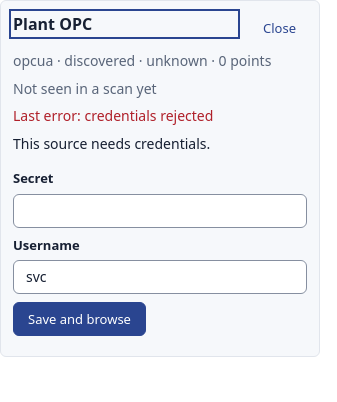
Scenario: SourcePanel › a source that needs credentials takes a secret and username, saves them, browses and shows the result
The width and height of the screenshot is (337, 402).
Expected: the text "This source needs credentials." is shown, [13,134,210,153]
Expected: the field labelled "Username" holds "svc", [13,260,307,294]
In the password field labelled "Secret": (160, 211) [13,194,307,228], type "s3cret"
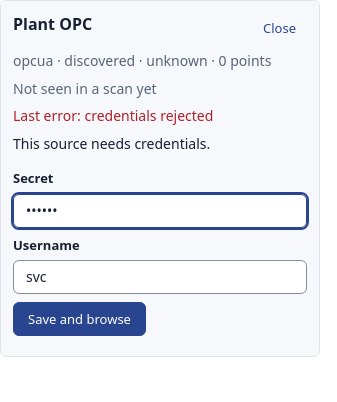
Replace the text in the field labelled "Username" with "operator": (160, 277) [13,260,307,294]
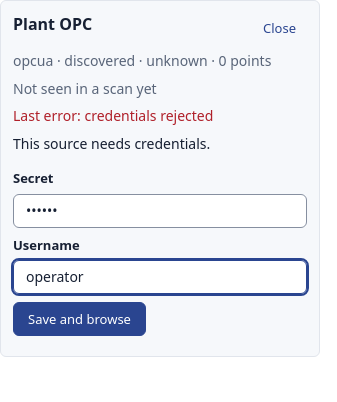
Click the button "Save and browse": (79, 319) [13,302,146,336]
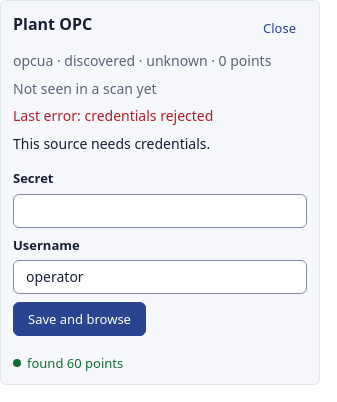
Now the text "found 60 points" is shown, box [13,354,123,372]
Now the password field labelled "Secret" is empty, box [13,194,307,228]
